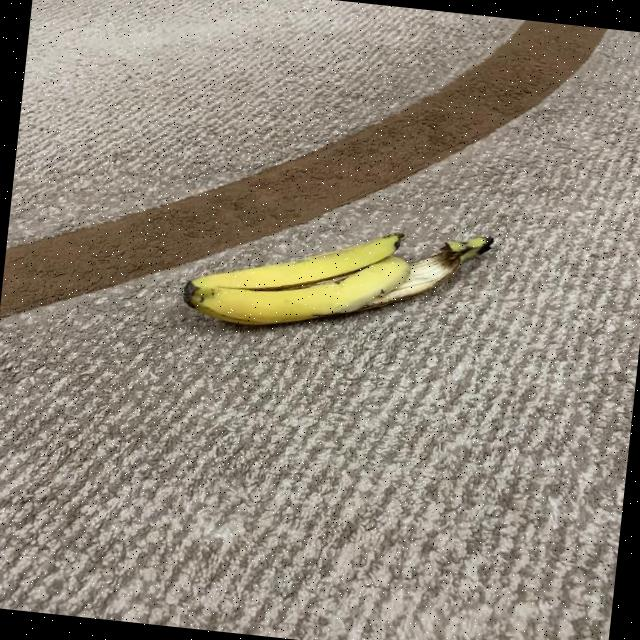banana-peel: (178, 202, 494, 351)
